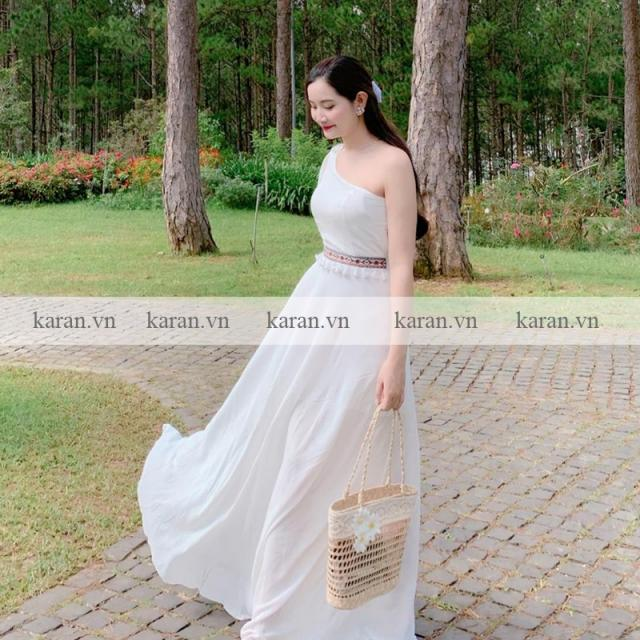clothes: (191, 142, 430, 640)
